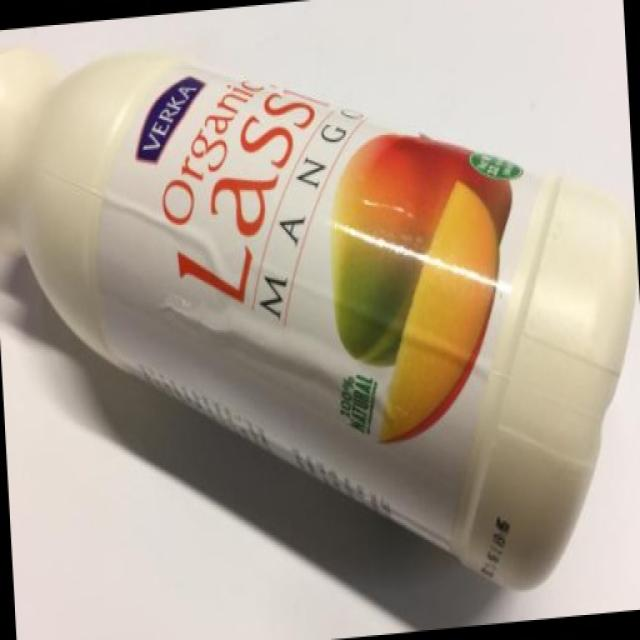plastico: (5, 28, 636, 604)
